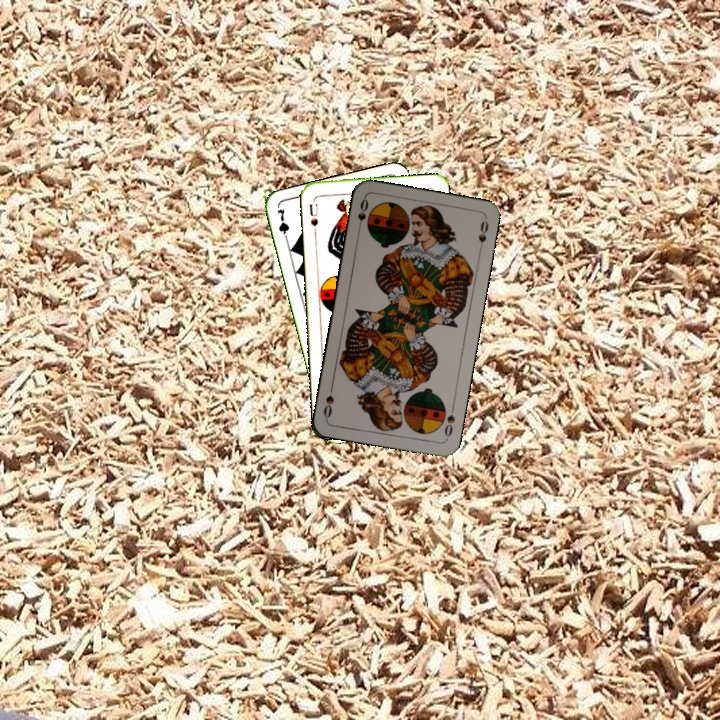G7: (273, 205, 292, 245)
SO: (353, 194, 371, 234), (440, 401, 457, 441)
SU: (306, 195, 321, 236)
